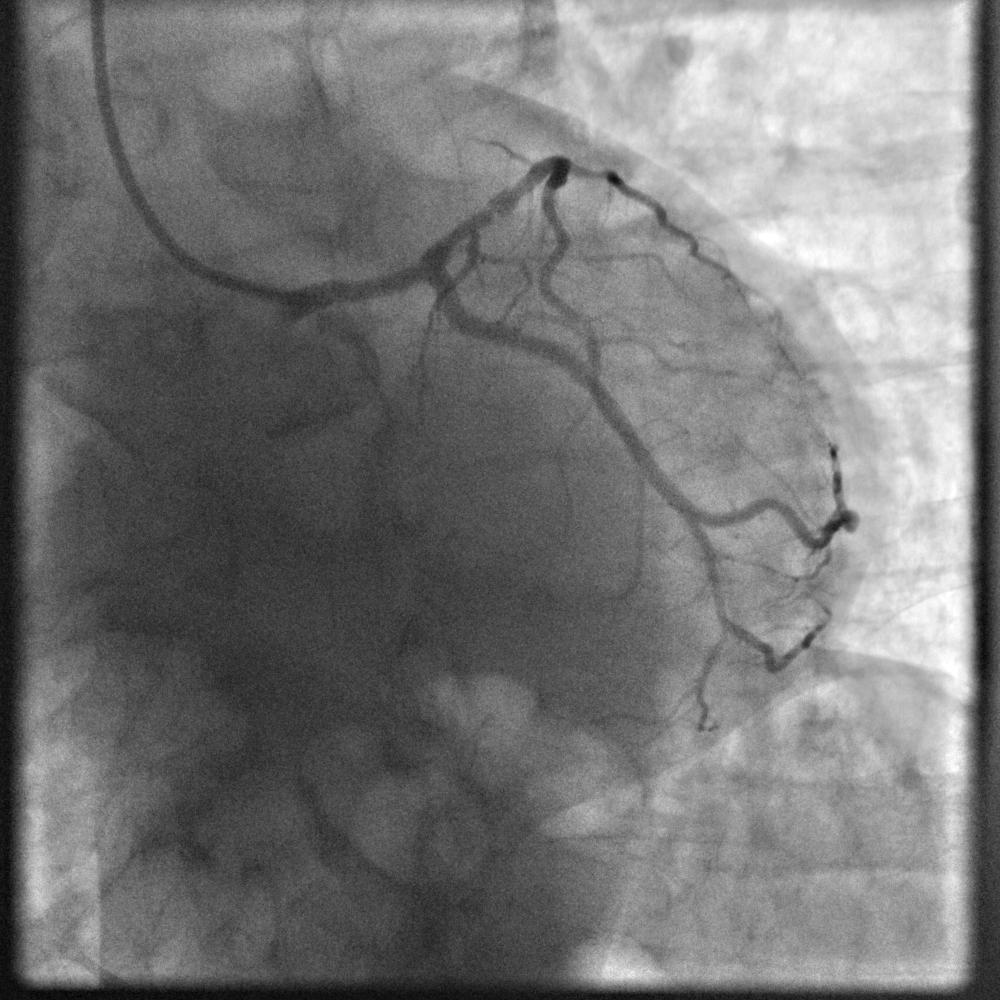Stenosis: (482, 199, 503, 219)
